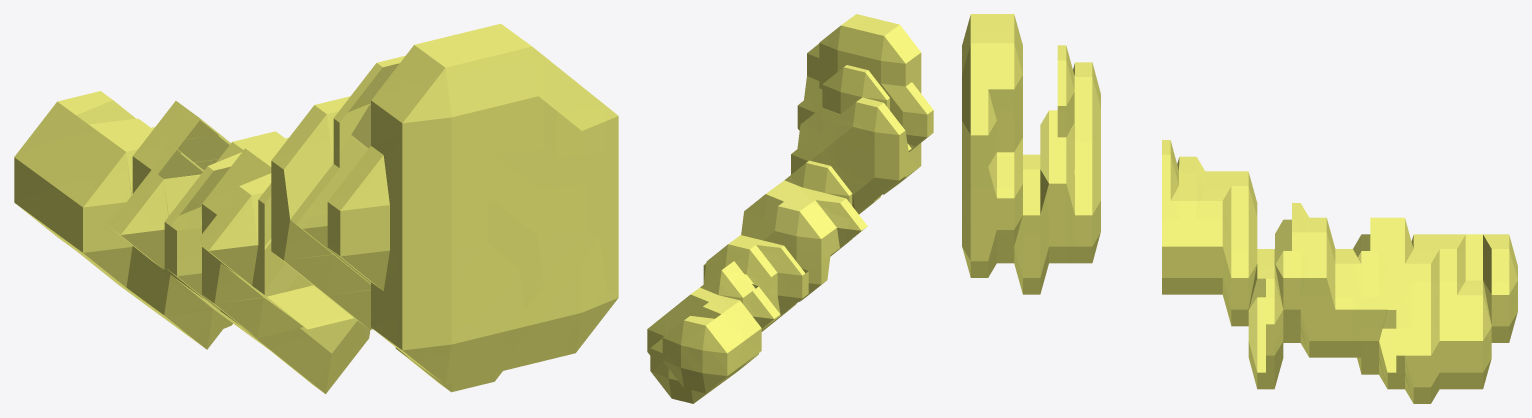
File: SVV_BWM-DR08.gltf
3 renders of one model, left to right at view 1: azimuth 30°, elevation 25°; view 2: azimuth 150°, elevation 25°; view 3: azimuth 270°, elevation 25°, orthographic. The views are drawn at different scales.
Parts seen in each view (by area): view 1: BWM-DR08; view 2: BWM-DR08; view 3: BWM-DR08.
Part boxes in pixels (<box>): BWM-DR08: <box>14,23,618,393</box>; BWM-DR08: <box>647,14,933,403</box>; BWM-DR08: <box>962,14,1517,403</box>.
Bounding box in the file's own units: 3067 × 5629 × 8195.
